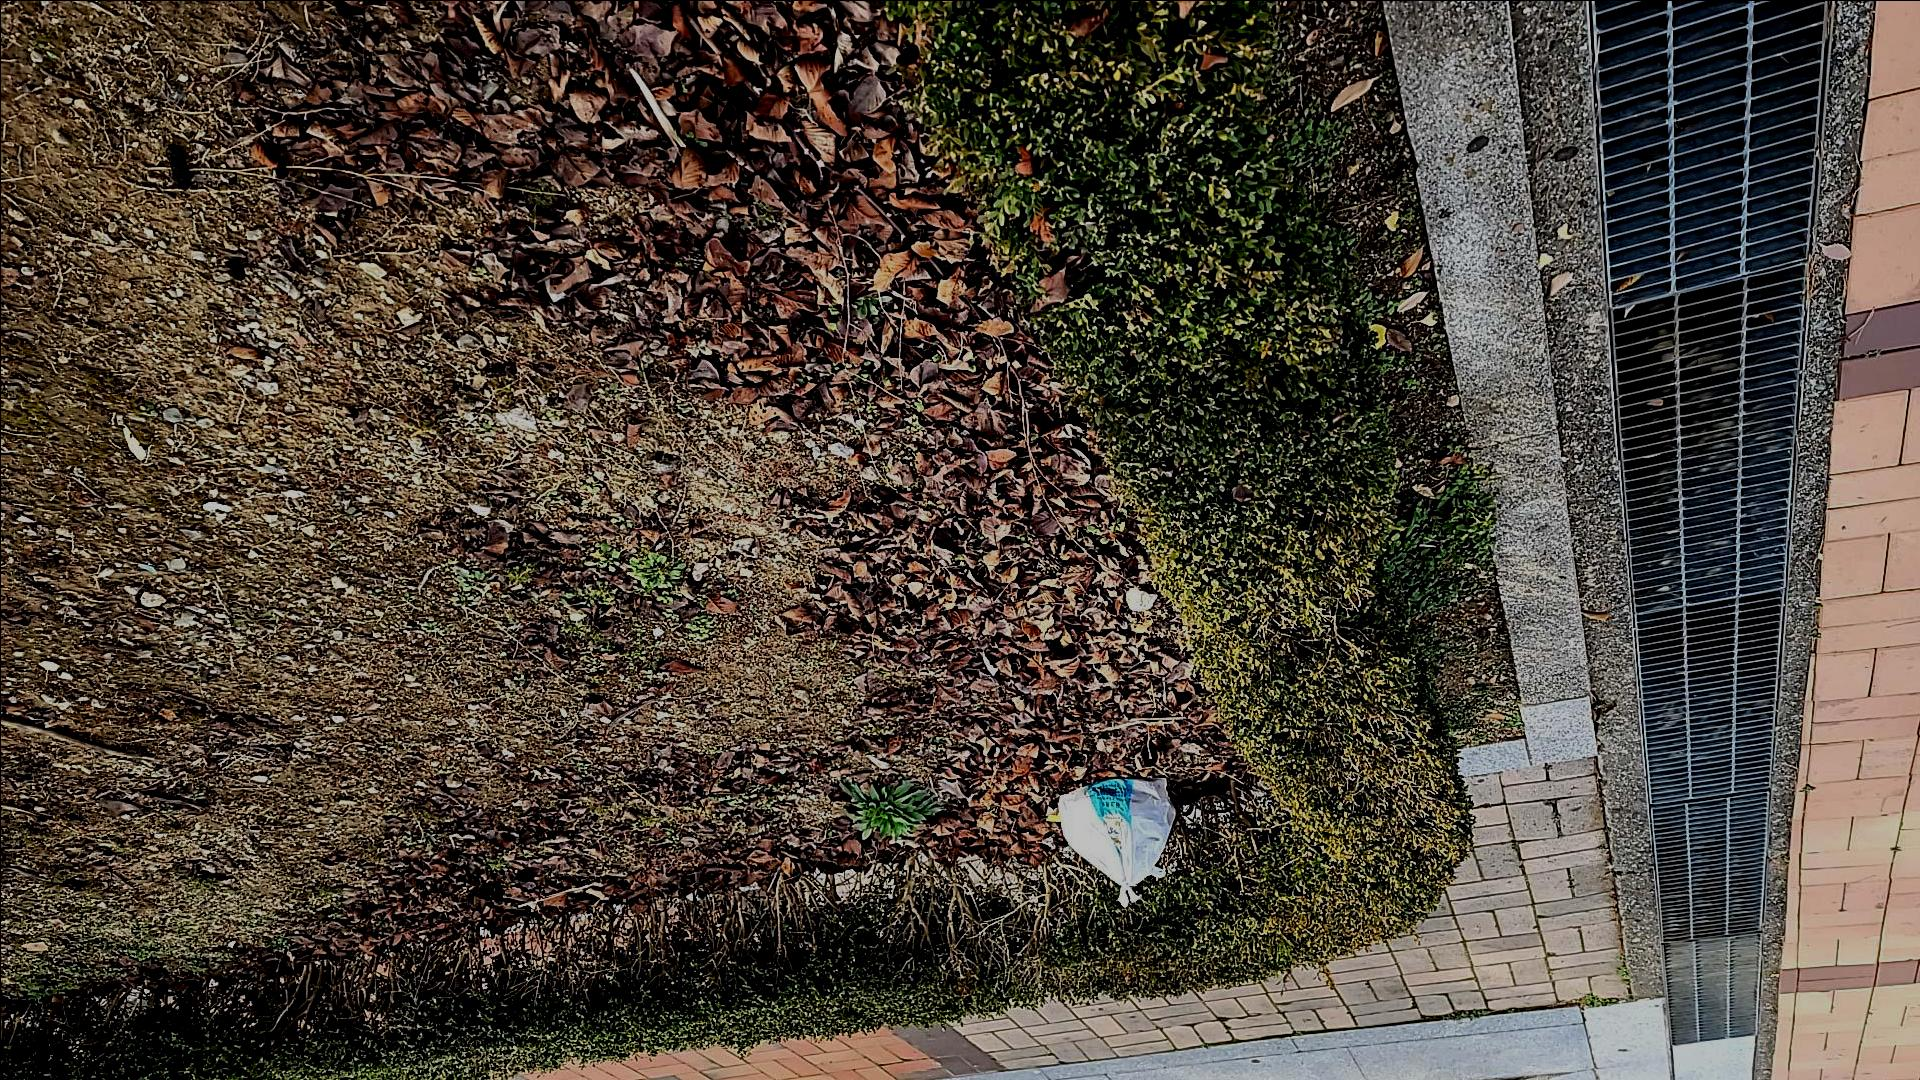white_bag: (1048, 771, 1183, 910)
